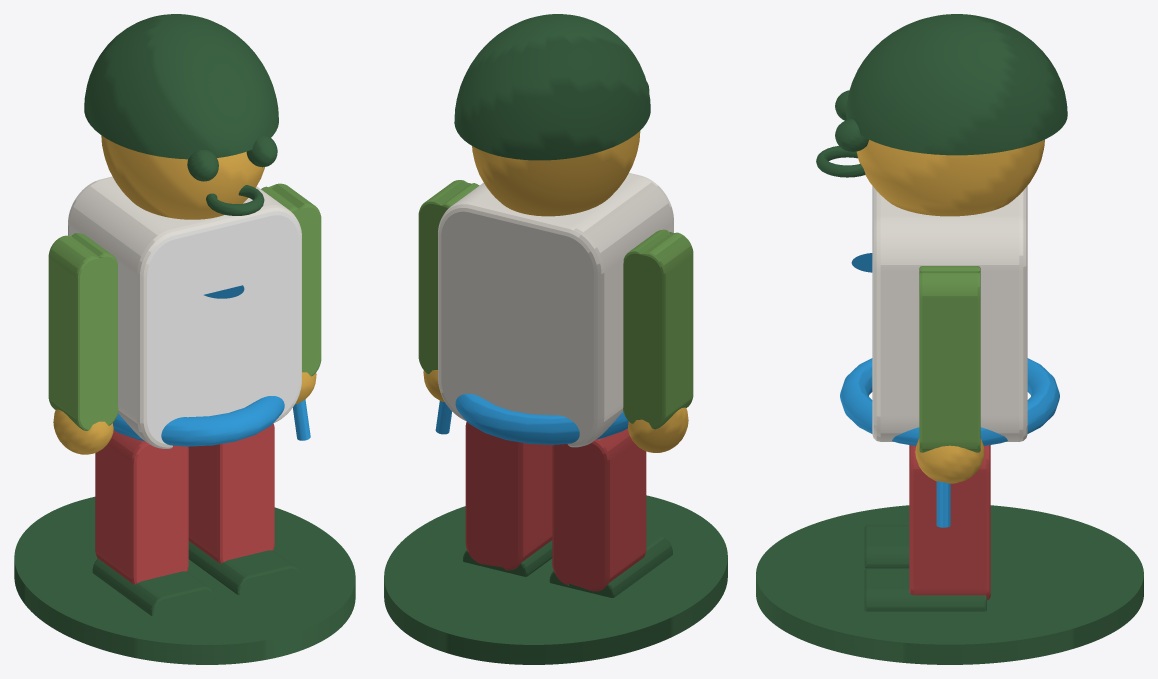
Rendered from 1332_中国古代寓言_刘基.glb.
3 renders of one model, left to right at view 1: azimuth 30°, elevation 25°; view 2: azimuth 150°, elevation 25°; view 3: azimuth 270°, elevation 25°, orthographic. The views are drawn at different scales.
Visible parts, largest first — view 1: card_1332; view 2: card_1332; view 3: card_1332.
Part boxes in pixels (box(x1,y1,x2,y2)): card_1332: box(14, 14, 355, 664); card_1332: box(384, 14, 727, 664); card_1332: box(756, 14, 1143, 664).
Bounding box in the file's own units: 0.5288 × 1 × 0.6146.
